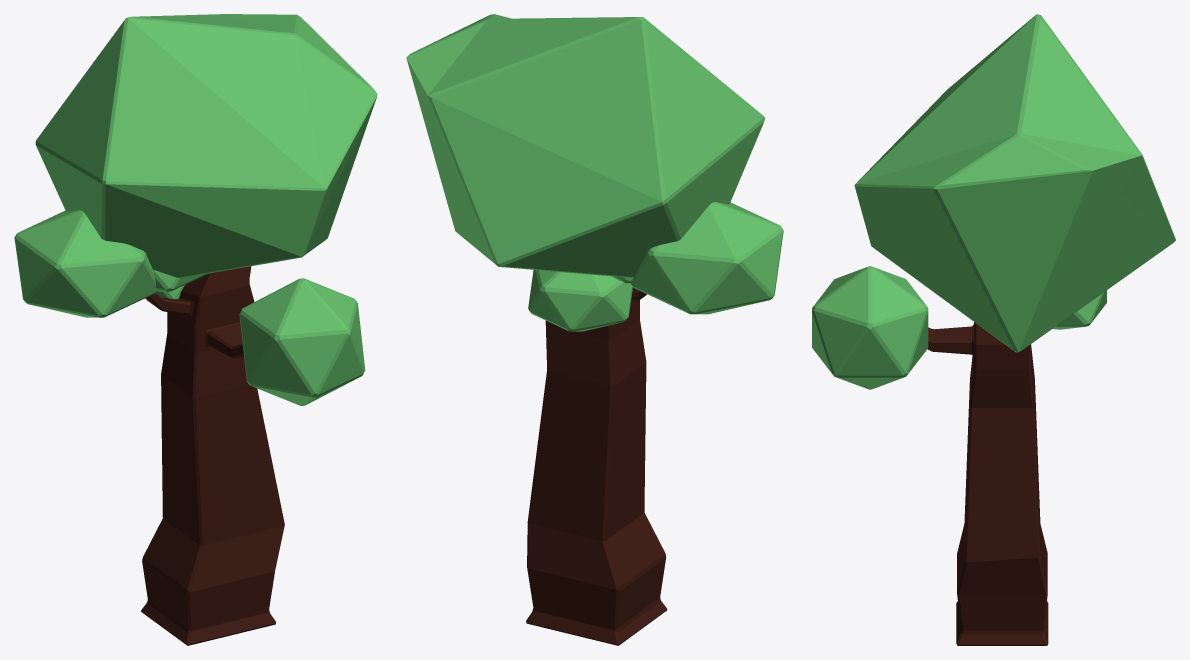
File: STA_Project_Vegetations_Tree_V1.fbx
The picture shows the model from 3 angles, left to right: view 1: azimuth 30°, elevation 25°; view 2: azimuth 150°, elevation 25°; view 3: azimuth 270°, elevation 25°; orthographic projection. The views are drawn at different scales.
Visible parts, largest first — view 1: Tree_V1; view 2: Tree_V1; view 3: Tree_V1.
Boxes of the visible parts, box(x1,y1,x2,y2) form: Tree_V1: box(14, 14, 377, 645); Tree_V1: box(406, 14, 783, 645); Tree_V1: box(812, 14, 1175, 645).
Bounding box in the file's own units: 306 × 563 × 319.
Materials: 2 (1 with a texture image).
